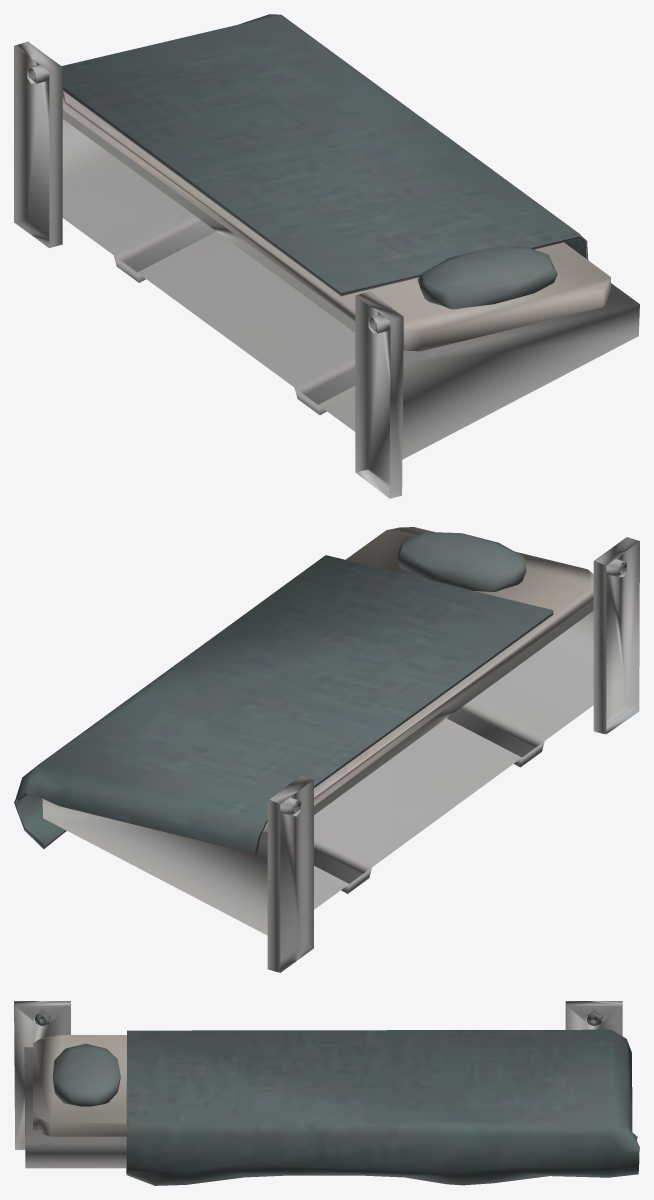
File: prison-bed.lod0.glb
3 renders of one model, top to bottom at view 1: azimuth 30°, elevation 25°; view 2: azimuth 150°, elevation 25°; view 3: azimuth 270°, elevation 25°, orthographic. The views are drawn at different scales.
Parts seen in each view (by area): view 1: defaultMaterial; view 2: defaultMaterial; view 3: defaultMaterial.
Boxes of the visible parts, bbox=[...] form: defaultMaterial: bbox=[14, 14, 639, 498]; defaultMaterial: bbox=[14, 527, 639, 972]; defaultMaterial: bbox=[14, 1001, 639, 1185].
Bounding box in the file's own units: 0.8023 × 0.5111 × 2.
Materials: 1 (1 with a texture image).
